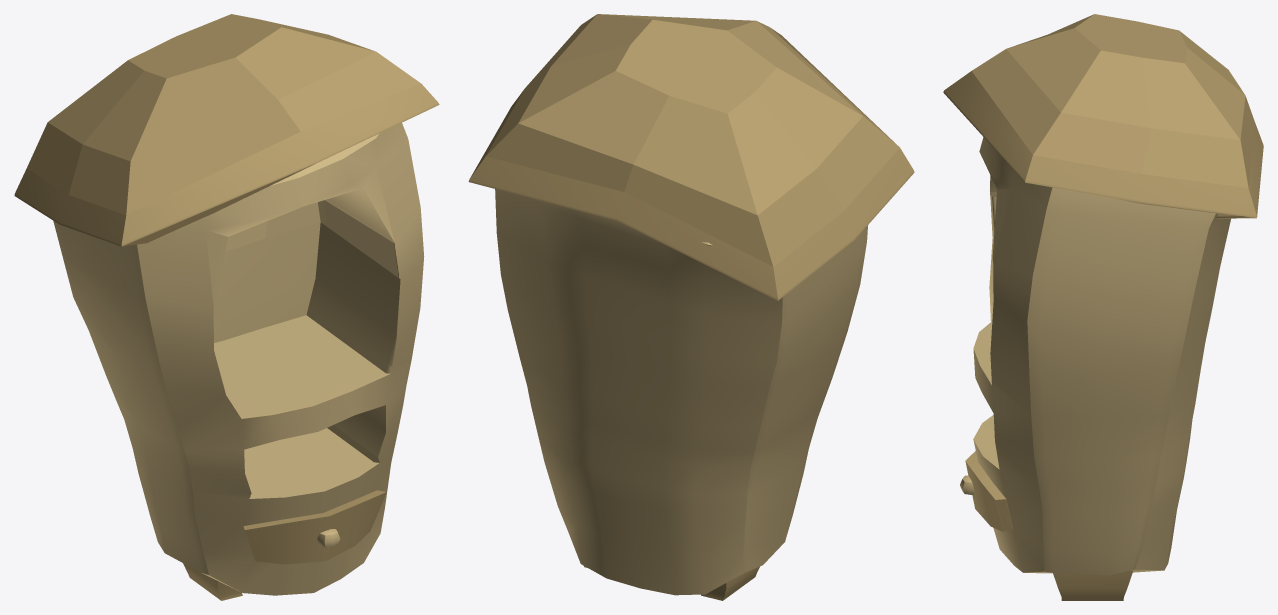
Rendered from new_cabinet.fbx.
3 renders of one model, left to right at view 1: azimuth 30°, elevation 25°; view 2: azimuth 150°, elevation 25°; view 3: azimuth 270°, elevation 25°, orthographic. The views are drawn at different scales.
Visible parts, largest first — view 1: polySurface25, polySurface27, polySurface26, polySurface29; view 2: polySurface25, polySurface27, polySurface29; view 3: polySurface25, polySurface27, polySurface28, polySurface26.
Boxes of the visible parts, bbox=[...] form: polySurface25: bbox=[53, 123, 424, 595]; polySurface27: bbox=[14, 14, 439, 246]; polySurface26: bbox=[243, 490, 386, 564]; polySurface29: bbox=[183, 563, 242, 600]; polySurface25: bbox=[495, 189, 867, 595]; polySurface27: bbox=[468, 14, 914, 300]; polySurface29: bbox=[701, 566, 759, 600]; polySurface25: bbox=[973, 137, 1230, 575]; polySurface27: bbox=[943, 14, 1263, 218]; polySurface28: bbox=[1053, 570, 1132, 600]; polySurface26: bbox=[965, 451, 1012, 531].
Bounding box in the file's own units: 7.78 × 12.22 × 6.77.
